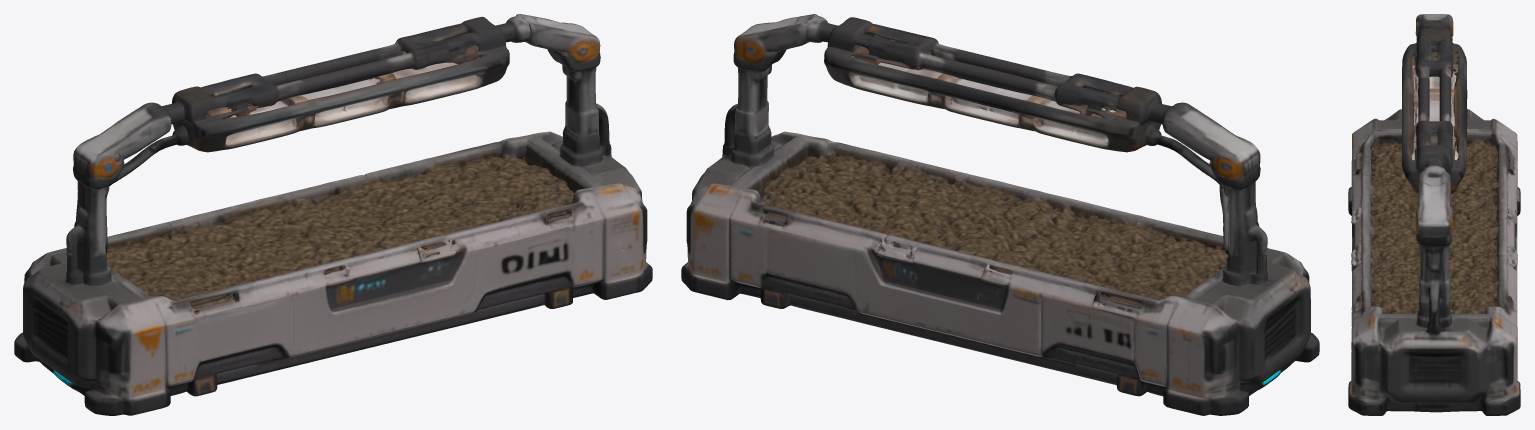
File: farm_plot.glb
3 views of the same model, side by side, from view 1: azimuth 30°, elevation 25°; view 2: azimuth 150°, elevation 25°; view 3: azimuth 270°, elevation 25° (orthographic). The views are drawn at different scales.
Parts seen in each view (by area): view 1: world; view 2: world; view 3: world.
Boxes of the visible parts, left/top/right/bottom form: world: left=14, top=14, right=652, bottom=415; world: left=681, top=14, right=1319, bottom=415; world: left=1348, top=14, right=1520, bottom=415.
Bounding box in the file's own units: 1.2 × 0.5262 × 0.3783.
1 material, 1 textured.
